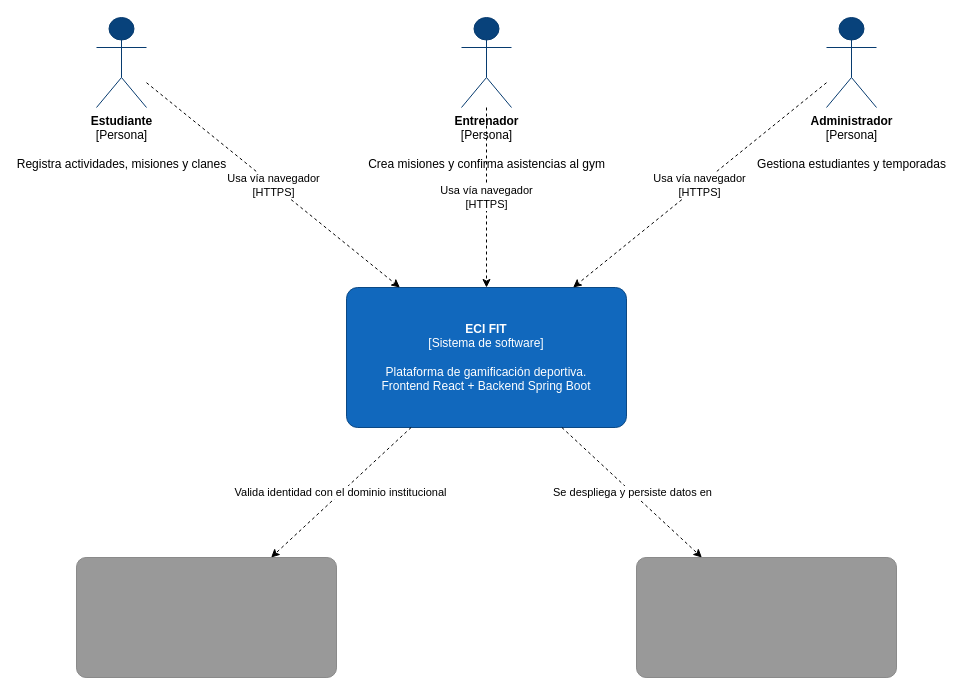
Some shapes in this 963 by 695 pixel diagram are drawn without their labels. Here are the shapes that lost their labels. From the top down, the centre of each, then its label:
(x=206, y=617): Correo institucional ECI [Sistema externo] Dominio @mail.escuelaing.edu.co
(x=766, y=617): Microsoft Azure [Sistema externo] App Service (QA y PROD) + PostgreSQL
